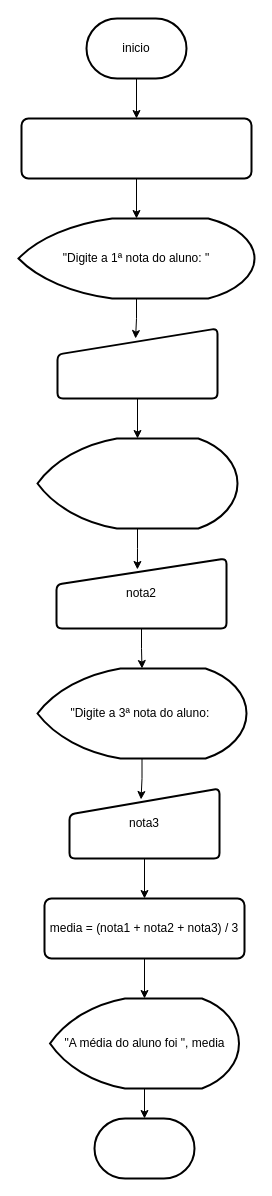
The diagram is 272 pixels wide and 1196 high, and some of its shapes have lost their labels. The box of each missing label's shape, as (x1, y1, x2, y2) in pixels:
"Digite a segunda nota do aluno: ": (36, 437, 238, 529)
fim: (93, 1117, 195, 1179)
nota1: (56, 327, 218, 399)
real nota1, nota2, nota3, media: (20, 117, 252, 179)
